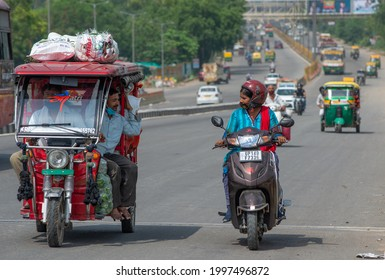bike: (220, 81, 282, 252), (293, 80, 308, 114)
bus: (323, 46, 346, 74)
car: (195, 80, 224, 105)
rickshaw: (16, 51, 146, 248), (317, 78, 364, 133), (364, 62, 377, 79), (251, 52, 263, 64), (224, 53, 234, 61)
